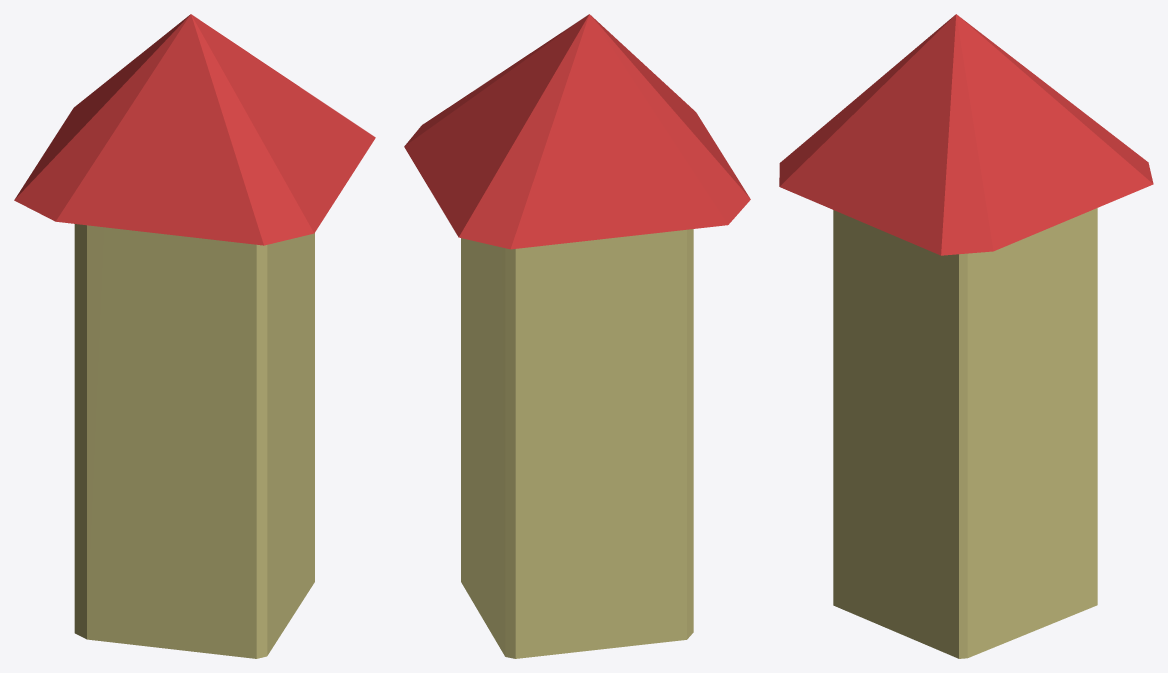
3 renders of one model, left to right at view 1: azimuth 30°, elevation 25°; view 2: azimuth 150°, elevation 25°; view 3: azimuth 270°, elevation 25°, orthographic. The views are drawn at different scales.
Bounding box in the file's own units: 5.27 × 5.22 × 9.
